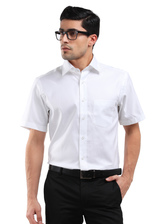glasses: (49, 28, 99, 42)
